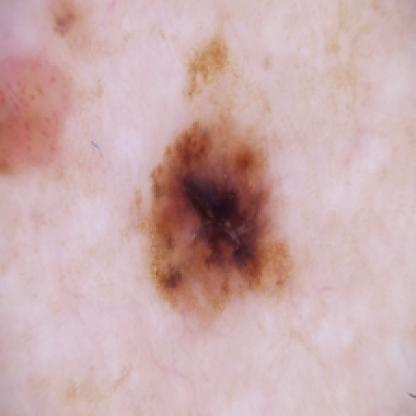Skin_Cancer-Malignant: (148, 112, 298, 326)
